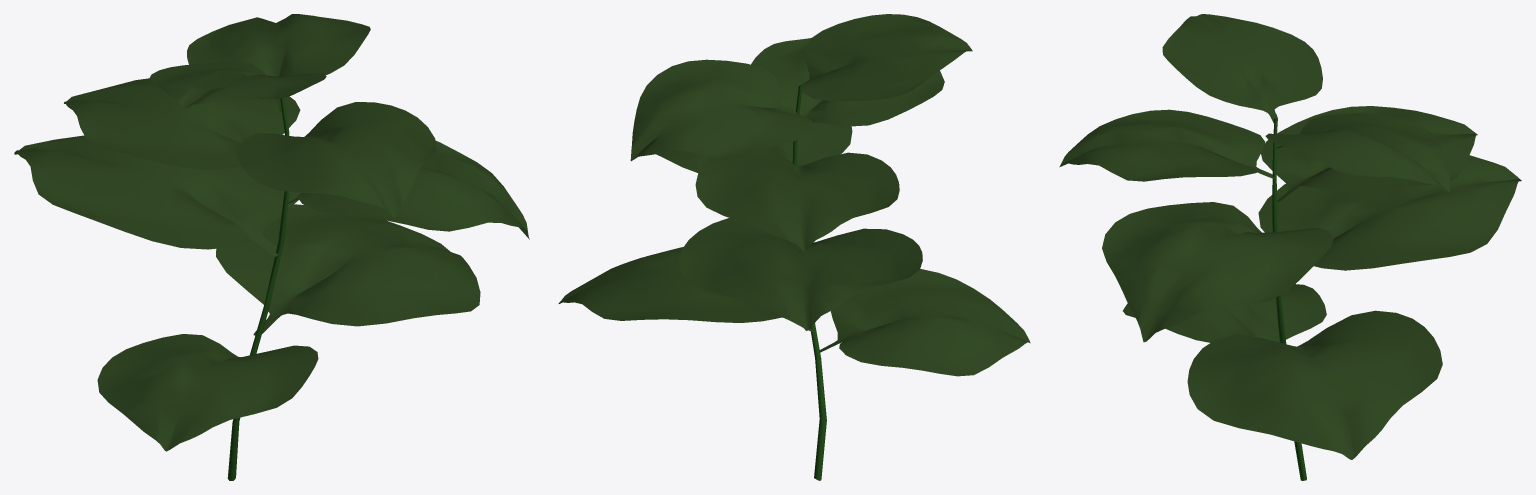
The model's file is sombrilla de pobre.glb.
The picture shows the model from 3 angles, left to right: view 1: azimuth 30°, elevation 25°; view 2: azimuth 150°, elevation 25°; view 3: azimuth 270°, elevation 25°; orthographic projection. The views are drawn at different scales.
Parts seen in each view (by area): view 1: GS Forest seedlings 01; view 2: GS Forest seedlings 01; view 3: GS Forest seedlings 01.
Boxes of the visible parts, left/top/right/bottom form: GS Forest seedlings 01: left=14, top=14, right=529, bottom=480; GS Forest seedlings 01: left=558, top=14, right=1030, bottom=480; GS Forest seedlings 01: left=1059, top=14, right=1521, bottom=480.
Size of the model in its own units: 43.36 by 46 by 45.58.
